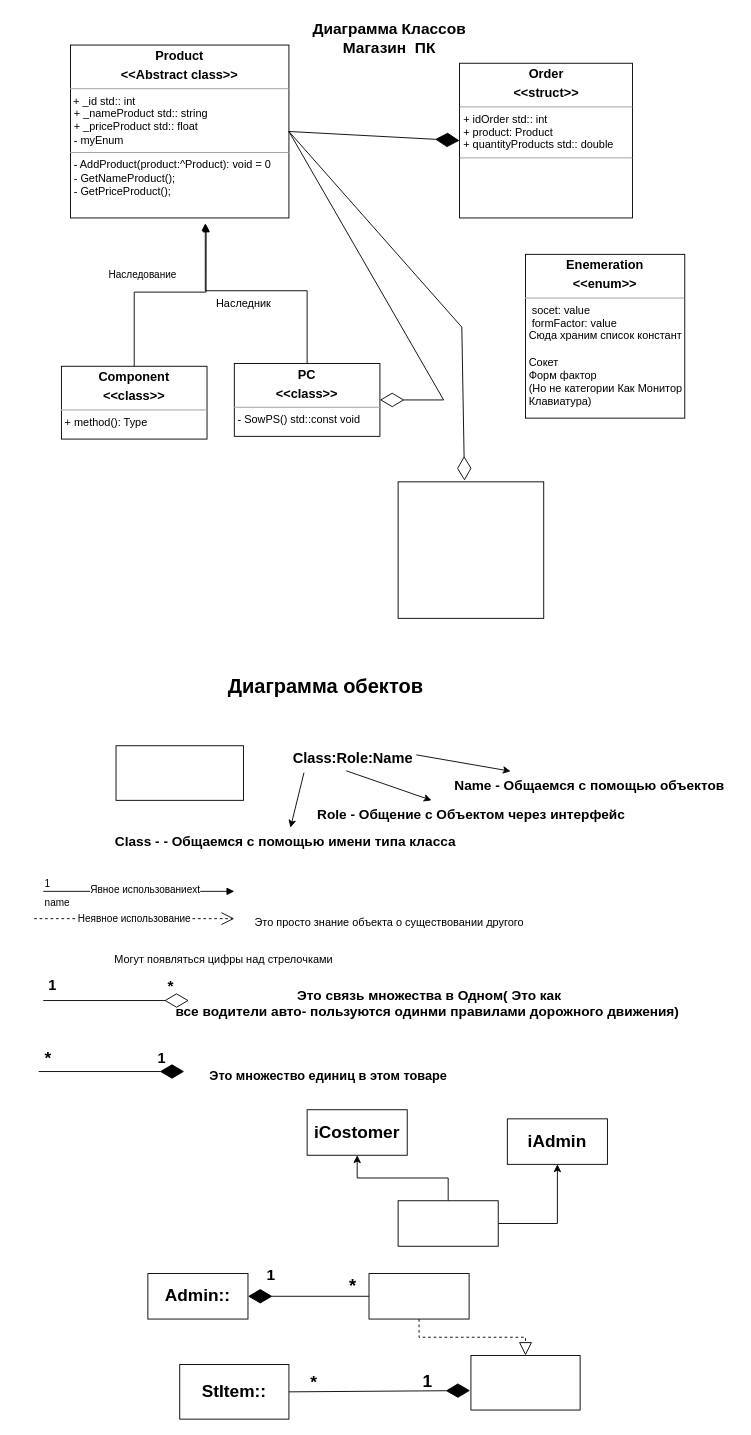
Image size: 751x1435. Some labels were removed from this diagram. The box of each missing label's shape, as (x1, y1, x2, y2) in pixels:
::Stoage: (470, 1355, 580, 1410)
Class Titel Значение полей: (115, 745, 243, 800)
Stock <<class>> +Data std::int +Products std::vector + AddProductStock(): Type: (397, 481, 544, 618)
Tickt:iAdmin: (368, 1273, 469, 1319)
Tiket: (397, 1200, 498, 1246)
